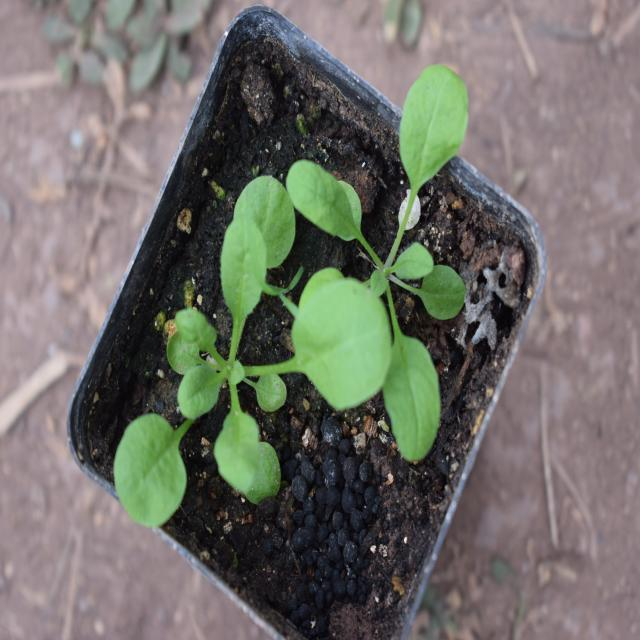Shepherd_Purse: (312, 70, 524, 436), (119, 188, 336, 536)
